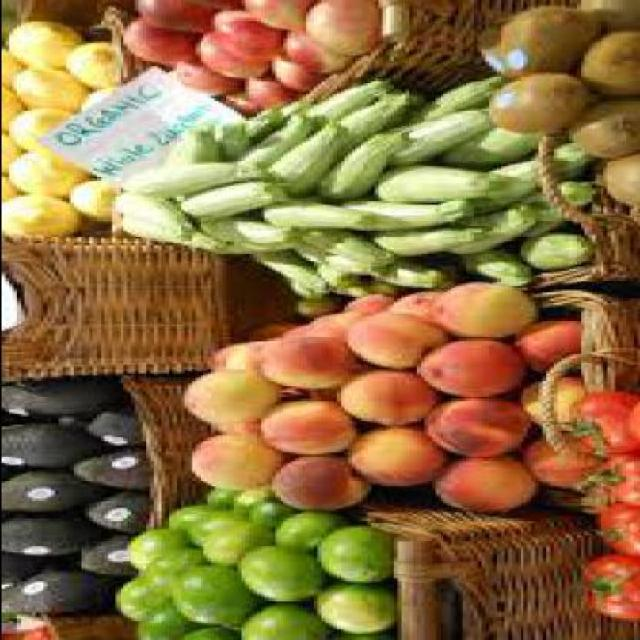BIODEGRADABLE: (480, 143, 591, 205), (496, 11, 598, 77), (340, 426, 442, 491), (412, 341, 526, 399), (370, 111, 484, 169), (484, 74, 594, 134), (312, 132, 411, 198), (426, 456, 534, 516), (419, 401, 530, 459), (423, 286, 537, 342), (260, 126, 342, 199), (343, 315, 442, 374), (267, 455, 362, 516), (332, 371, 430, 427), (115, 164, 262, 201), (255, 401, 351, 456), (182, 435, 275, 491), (434, 206, 529, 259), (179, 374, 275, 426), (332, 200, 465, 237), (2, 574, 100, 623), (2, 380, 122, 420), (362, 170, 503, 204), (255, 340, 347, 392), (564, 391, 636, 457), (232, 548, 312, 606), (229, 119, 316, 172), (308, 528, 386, 587), (572, 32, 636, 100), (564, 100, 636, 160), (168, 568, 240, 628), (297, 2, 374, 58), (290, 82, 388, 126), (172, 183, 282, 222), (518, 435, 594, 491), (503, 186, 591, 234), (1, 471, 96, 515), (403, 79, 495, 124), (430, 130, 538, 168), (1, 426, 96, 469), (205, 10, 282, 62), (575, 559, 636, 623), (114, 20, 194, 66), (290, 230, 388, 267), (244, 254, 324, 298), (308, 591, 388, 635), (515, 320, 579, 375), (515, 380, 579, 435), (3, 156, 80, 201), (281, 243, 374, 280), (0, 198, 77, 242), (110, 199, 187, 243), (232, 603, 326, 639), (130, 2, 232, 35), (191, 34, 263, 80), (5, 23, 72, 72), (328, 94, 410, 134), (2, 520, 80, 562), (511, 234, 591, 274), (8, 69, 80, 113), (195, 524, 267, 568), (366, 231, 480, 258), (259, 205, 370, 232), (472, 15, 518, 80), (65, 455, 142, 493), (271, 514, 338, 557), (279, 32, 346, 74), (72, 535, 134, 580), (4, 111, 68, 154), (122, 529, 183, 574), (57, 45, 118, 89), (110, 578, 168, 624), (449, 254, 526, 288), (583, 456, 635, 506), (156, 128, 218, 168), (168, 59, 235, 96), (587, 508, 636, 557), (132, 602, 198, 638), (84, 495, 145, 533), (595, 156, 636, 212), (160, 508, 217, 548), (222, 219, 289, 252), (72, 415, 134, 450), (241, 1, 308, 32), (236, 78, 298, 111), (369, 262, 442, 290), (160, 223, 225, 254), (572, 1, 636, 32), (64, 181, 110, 224), (202, 235, 289, 256), (236, 110, 278, 148), (270, 60, 316, 94), (202, 346, 252, 376), (300, 266, 358, 291), (1, 557, 42, 591), (244, 499, 285, 532), (221, 491, 262, 523), (301, 316, 347, 341), (339, 297, 388, 315), (290, 299, 336, 318), (2, 132, 20, 177), (198, 489, 228, 514), (206, 422, 259, 435), (2, 172, 20, 210), (177, 626, 229, 639), (2, 88, 15, 134), (621, 407, 636, 444), (2, 49, 15, 89), (278, 328, 305, 341), (323, 636, 389, 638)
